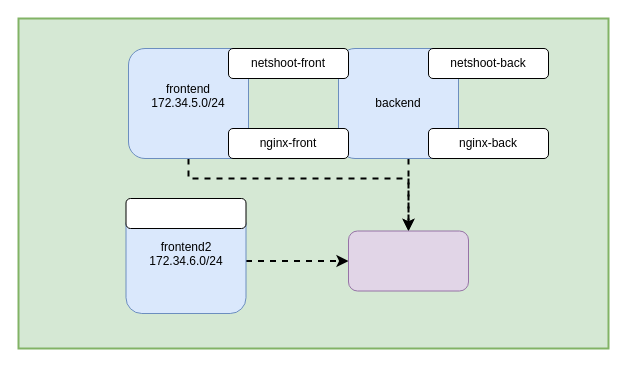
This 626x366 diagram has some shape labels left out. Here are the shapes that lost their labels. From the top down, the centre of each, then its label:
the point at 185,213: netshoot-front2
the point at 408,260: host routing
